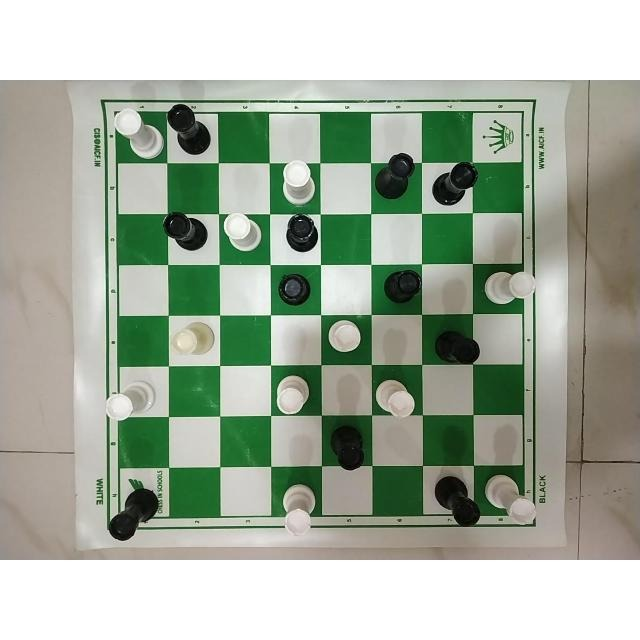black-rook: (0, 128, 639, 488), (107, 481, 161, 543), (430, 471, 483, 528), (164, 102, 214, 157), (432, 158, 480, 208), (158, 207, 209, 252), (326, 422, 370, 474), (431, 323, 484, 365), (376, 151, 416, 203), (378, 267, 425, 306), (283, 210, 319, 258), (273, 270, 314, 308)
white-rook: (485, 472, 539, 528), (113, 106, 163, 159), (480, 265, 540, 307), (101, 380, 157, 422), (277, 480, 318, 535), (278, 160, 320, 209), (219, 210, 267, 252), (372, 377, 419, 419), (170, 321, 215, 360), (273, 373, 312, 417), (325, 319, 369, 356)
